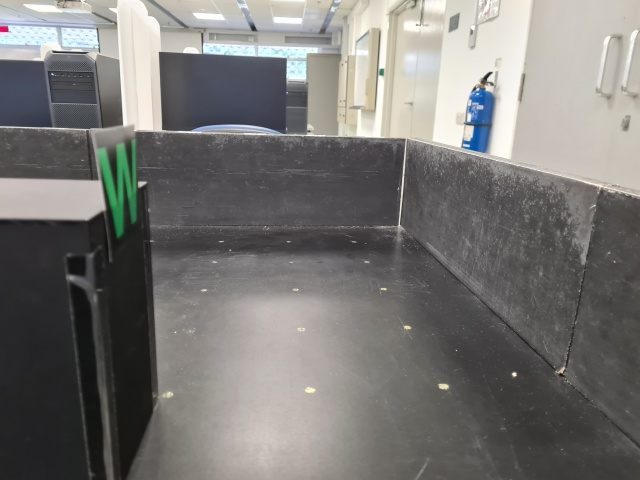alphabet_w: (89, 122, 146, 261)
